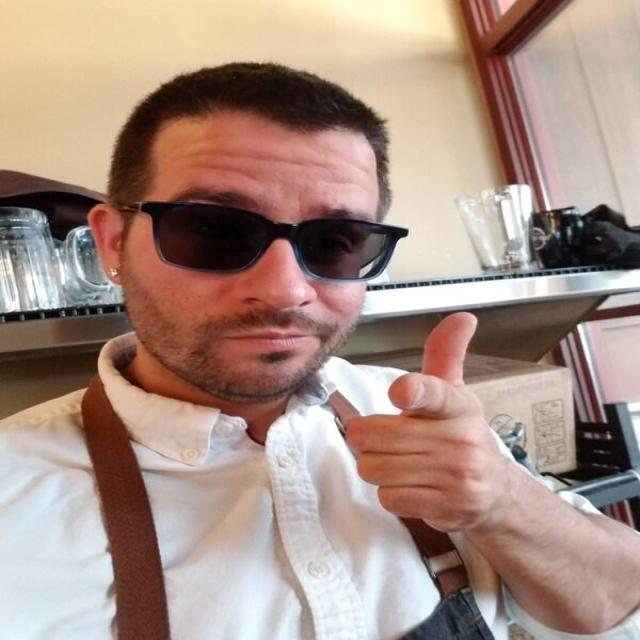2_gafas: (116, 198, 409, 282)
